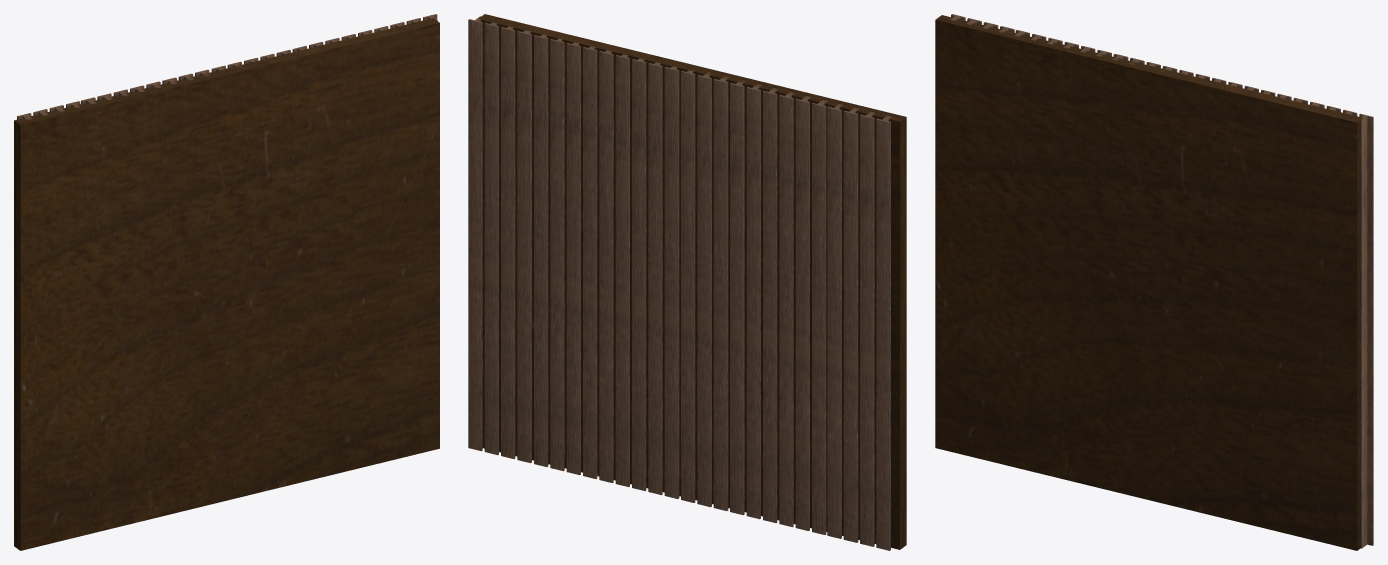
Rendered from PanelesMadera.fbx.
3 renders of one model, left to right at view 1: azimuth 30°, elevation 25°; view 2: azimuth 150°, elevation 25°; view 3: azimuth 330°, elevation 25°, orthographic.
Visible parts, largest first — view 1: Cube.055; view 2: Cube.055, Cube.079, Cube.071, Cube.057, Cube.081, Cube.073, Cube.076, Cube.074, Cube.080, Cube.075, Cube.077, Cube.072 (+15 smaller); view 3: Cube.055, Cube.070.
Boxes of the visible parts, x1=… form: Cube.055: x1=14, y1=18, x2=439, y2=550; Cube.055: x1=478, y1=14, x2=906, y2=549; Cube.079: x1=843, y1=107, x2=858, y2=542; Cube.071: x1=713, y1=76, x2=728, y2=510; Cube.057: x1=664, y1=66, x2=679, y2=498; Cube.081: x1=876, y1=115, x2=891, y2=550; Cube.073: x1=746, y1=84, x2=761, y2=519; Cube.076: x1=795, y1=96, x2=810, y2=530; Cube.074: x1=763, y1=88, x2=777, y2=522; Cube.080: x1=860, y1=112, x2=874, y2=546; Cube.075: x1=779, y1=92, x2=794, y2=527; Cube.077: x1=812, y1=100, x2=827, y2=534; Cube.072: x1=730, y1=80, x2=744, y2=515; Cube.055: x1=935, y1=15, x2=1362, y2=550; Cube.070: x1=1359, y1=113, x2=1373, y2=548.
Size of the model in its own units: 419 by 400 by 17.27.
